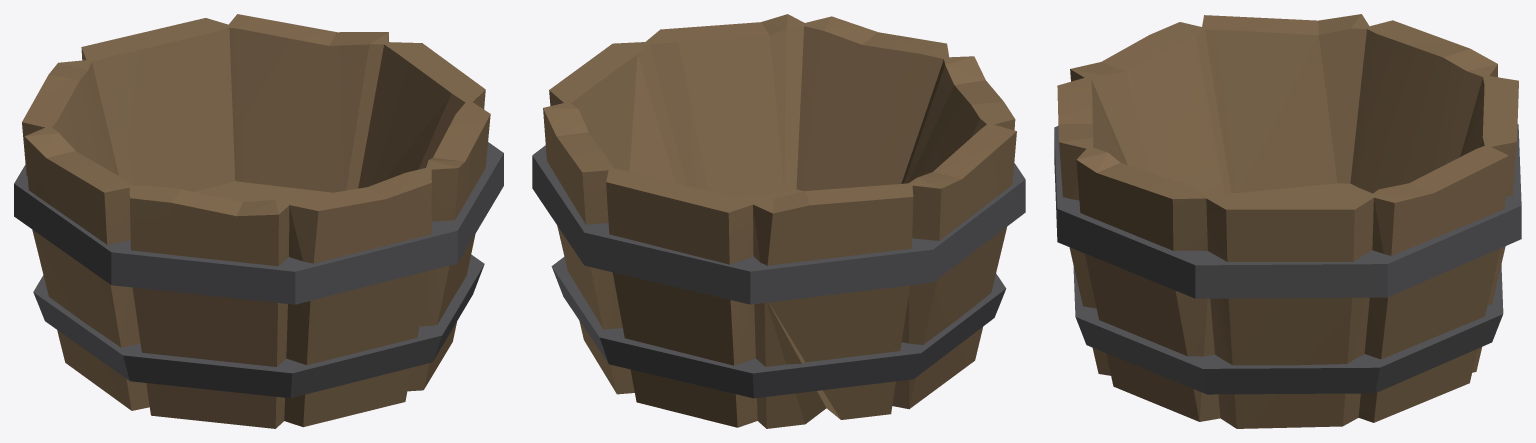
Rendered from Balde.glb.
The picture shows the model from 3 angles, left to right: view 1: azimuth 30°, elevation 25°; view 2: azimuth 150°, elevation 25°; view 3: azimuth 270°, elevation 25°; orthographic projection.
Parts seen in each view (by area): view 1: SM_Prop_Barrel_Half_01; view 2: SM_Prop_Barrel_Half_01; view 3: SM_Prop_Barrel_Half_01.
Boxes of the visible parts, x1=… form: SM_Prop_Barrel_Half_01: x1=14, y1=14, x2=503, y2=428; SM_Prop_Barrel_Half_01: x1=532, y1=14, x2=1025, y2=428; SM_Prop_Barrel_Half_01: x1=1054, y1=14, x2=1521, y2=428.
Size of the model in its own units: 0.8425 by 0.4758 by 0.8425.
Materials: 1 (1 with a texture image).
